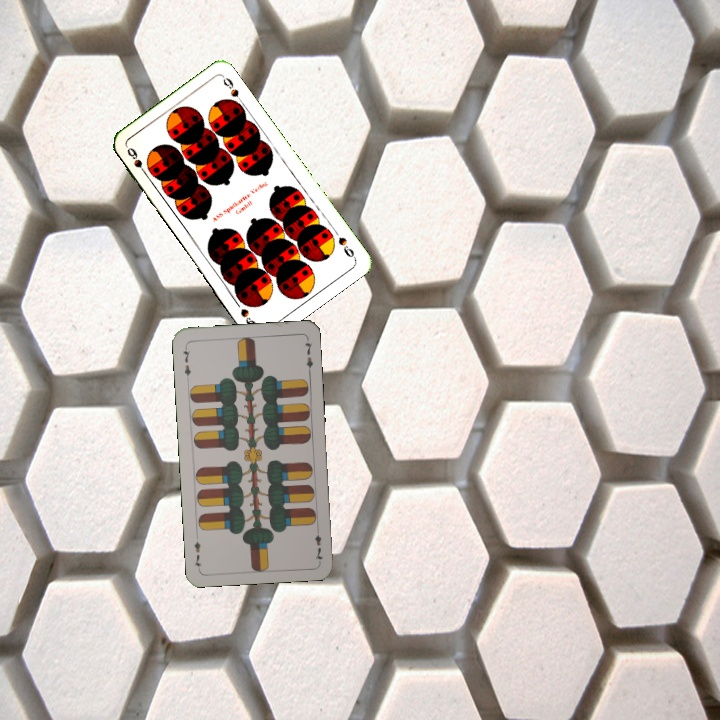E7: (311, 523, 325, 564), (180, 342, 193, 379)
S9: (123, 143, 151, 179), (334, 233, 358, 262)
